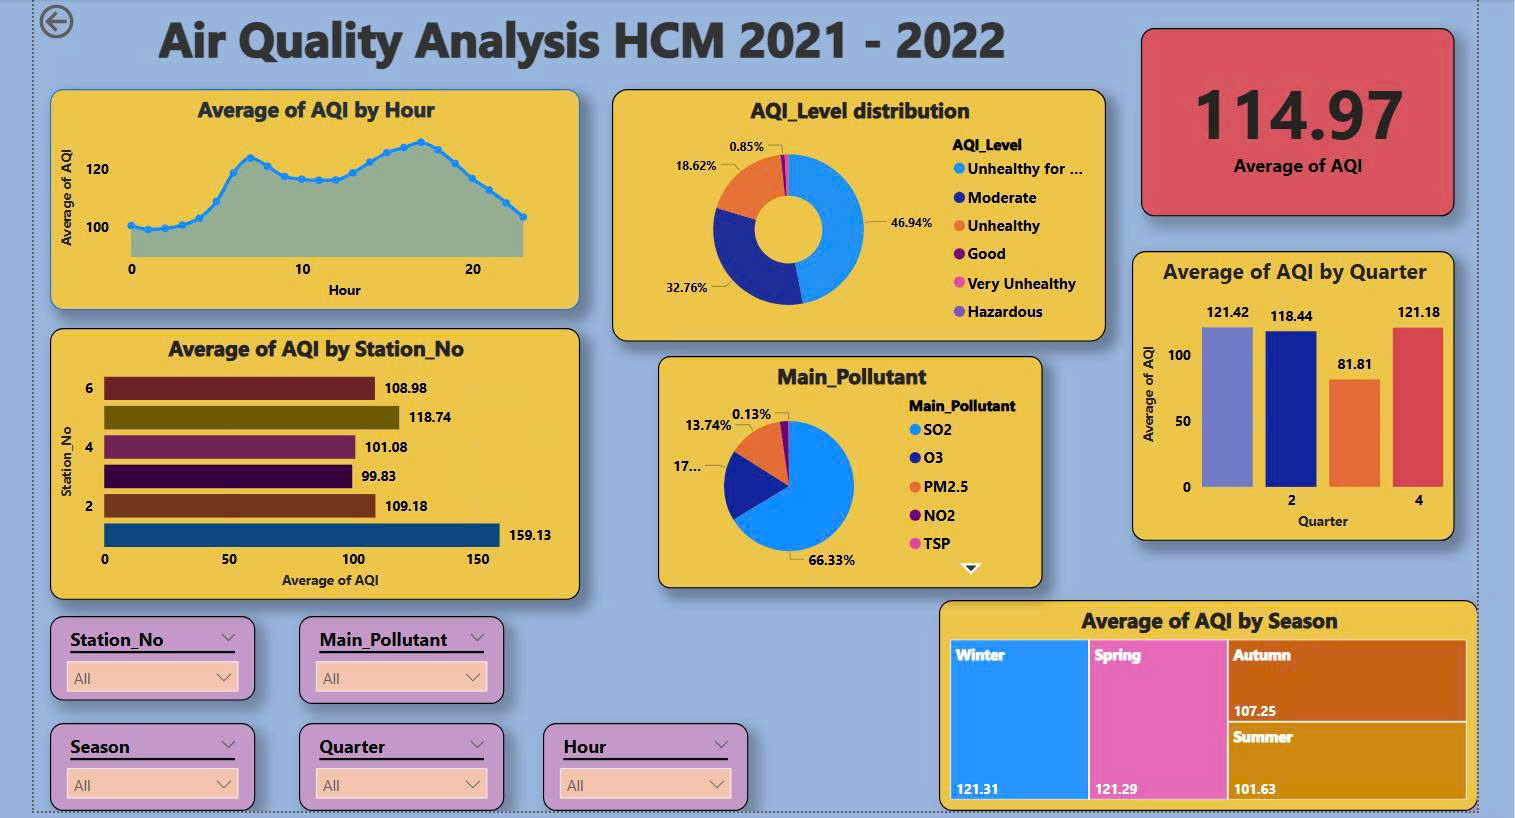

The dashboard page shown, as its layout file describes it:
{"tool":"powerbi","page":{"name":"Page 1","canvas":[1280,720],"ordinal":0},"visuals":[{"type":"card","fields":{"Values":["Avg(HCMC_AQI_Cleaned.AQI)"]},"box":[981.6,25.7,278.4,166.7],"z":0},{"type":"slicer","title":"dsdas","fields":{"Values":["HCMC_AQI_Cleaned.Station_No"]},"box":[14.2,547.1,181.8,75.4],"z":1000},{"type":"slicer","fields":{"Values":["HCMC_AQI_Cleaned.Main_Pollutant"]},"box":[235,547.1,181.8,78],"z":2000},{"type":"slicer","fields":{"Values":["HCMC_AQI_Cleaned.hour"]},"box":[451.3,642,181.8,78],"z":3000},{"type":"slicer","fields":{"Values":["HCMC_AQI_Cleaned.season"]},"box":[14.2,642,181.8,78],"z":4000},{"type":"textbox","box":[105.5,0,789.2,66.5],"z":5000},{"type":"lineChart","fields":{"Category":["HCMC_AQI_Cleaned.hour"],"Y":["Avg(HCMC_AQI_Cleaned.AQI)"]},"box":[14.2,79.8,470,196],"z":6000},{"type":"treemap","fields":{"Group":["HCMC_AQI_Cleaned.Season"],"Values":["Avg(HCMC_AQI_Cleaned.AQI)"]},"box":[802.5,532.9,477.9,187.1],"z":7000},{"type":"clusteredBarChart","fields":{"Category":["HCMC_AQI_Cleaned.Station_No"],"Y":["Avg(HCMC_AQI_Cleaned.AQI)"]},"box":[14.2,291.7,470,241.2],"z":8000},{"type":"donutChart","title":"AQI_Level distribution","fields":{"Y":["CountNonNull(HCMC_AQI_Cleaned.AQI_Level)"],"Category":["HCMC_AQI_Cleaned.AQI_Level"]},"box":[512.5,79.8,438,224.3],"z":9000},{"type":"pieChart","title":"Main_Pollutant","fields":{"Category":["HCMC_AQI_Cleaned.Main_Pollutant"],"Y":["CountNonNull(HCMC_AQI_Cleaned.AQI)"]},"box":[553.3,316.6,341.4,205.7],"z":10000},{"type":"actionButton","box":[0,0,100.2,39.9],"z":11000},{"type":"columnChart","fields":{"Category":["HCMC_AQI_Cleaned.Quarter"],"Y":["Avg(HCMC_AQI_Cleaned.AQI)"]},"box":[973.6,223.4,286.4,257.1],"z":12000},{"type":"slicer","fields":{"Values":["HCMC_AQI_Cleaned.Quarter"]},"box":[235,642,181.8,78],"z":13000}]}

Visuals, with their boxes in screenshot pixels (x1, y1, x2, y2):
card - Avg(HCMC_AQI_Cleaned.AQI): 1134,29,1445,215
"dsdas" slicer: 51,612,255,696
slicer - HCMC_AQI_Cleaned.Main_Pollutant: 298,612,502,699
slicer - HCMC_AQI_Cleaned.hour: 540,718,744,805
slicer - HCMC_AQI_Cleaned.season: 51,718,255,805
textbox: 154,0,1036,74
lineChart - HCMC_AQI_Cleaned.hour x Avg(HCMC_AQI_Cleaned.AQI): 51,89,577,309
treemap - HCMC_AQI_Cleaned.Season x Avg(HCMC_AQI_Cleaned.AQI): 933,596,1468,805
clusteredBarChart - HCMC_AQI_Cleaned.Station_No x Avg(HCMC_AQI_Cleaned.AQI): 51,326,577,596
"AQI_Level distribution" donutChart: 609,89,1099,340
"Main_Pollutant" pieChart: 654,354,1036,584
actionButton: 36,0,148,45
columnChart - HCMC_AQI_Cleaned.Quarter x Avg(HCMC_AQI_Cleaned.AQI): 1125,250,1445,537
slicer - HCMC_AQI_Cleaned.Quarter: 298,718,502,805
